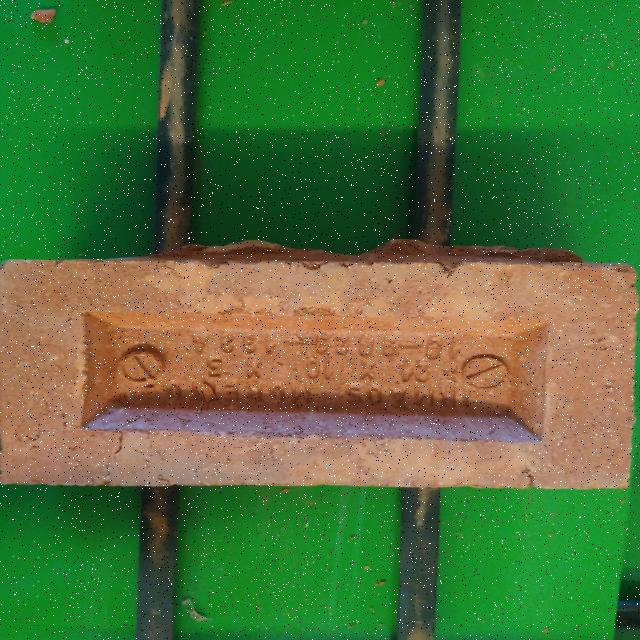bricks_ruin: (0, 239, 640, 488)
